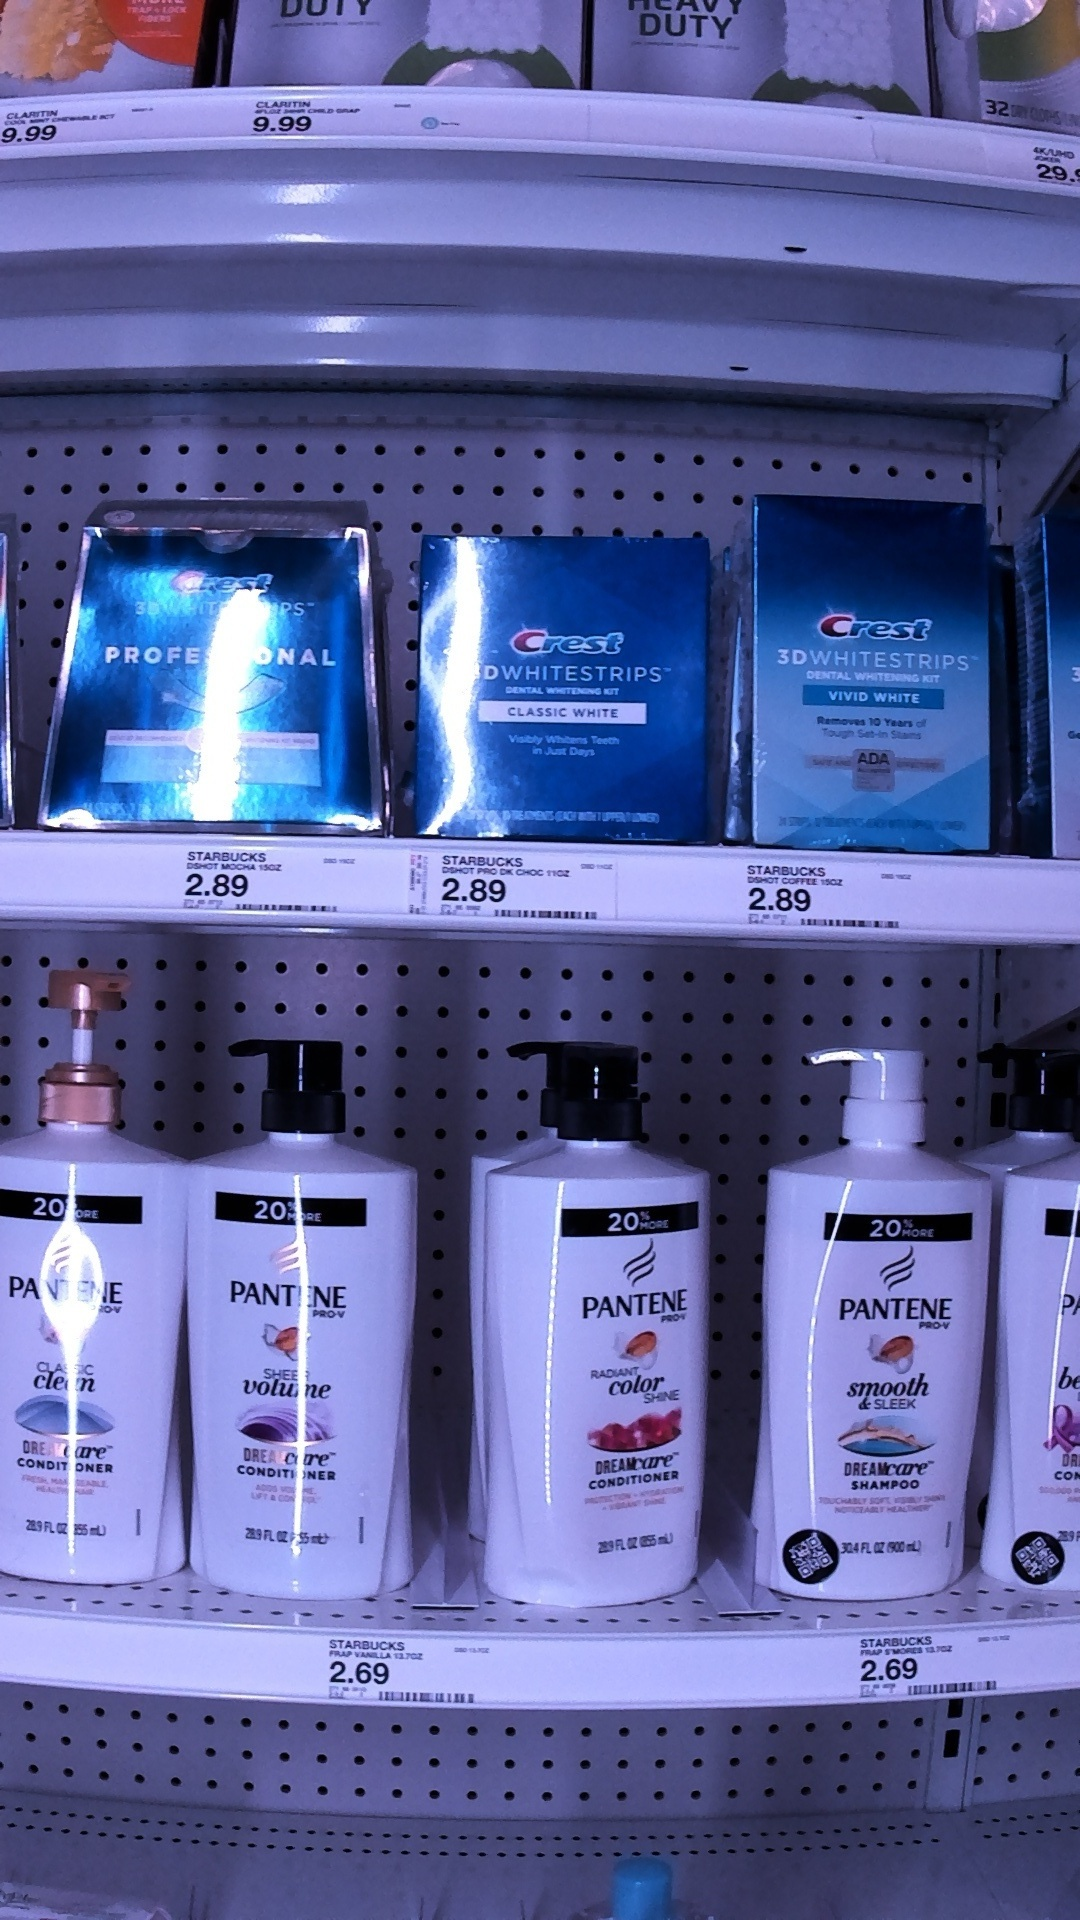ptag: (438, 837, 620, 935), (182, 829, 369, 922), (740, 851, 924, 942), (320, 1625, 491, 1716), (853, 1629, 1018, 1704), (243, 82, 402, 153), (1, 86, 127, 158)
